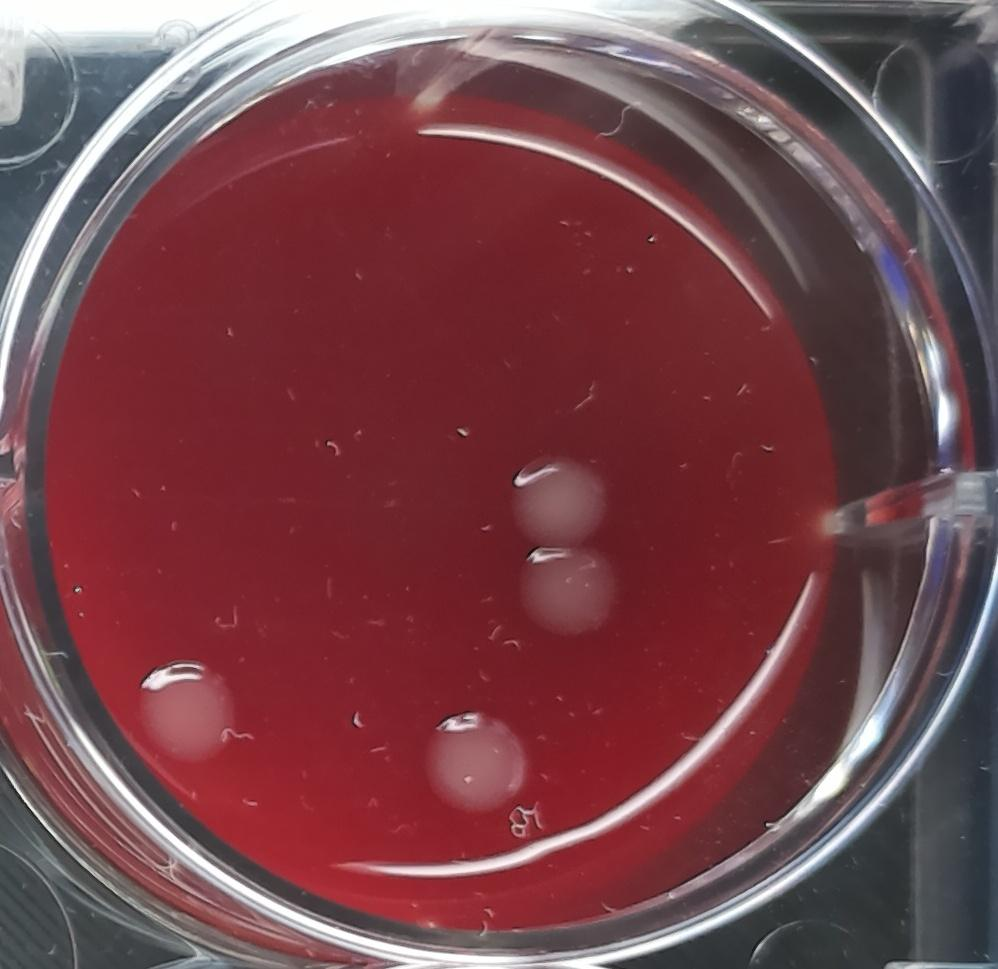vharveyi: (421, 704, 537, 827), (130, 647, 245, 771), (510, 540, 621, 647), (507, 456, 607, 549)
